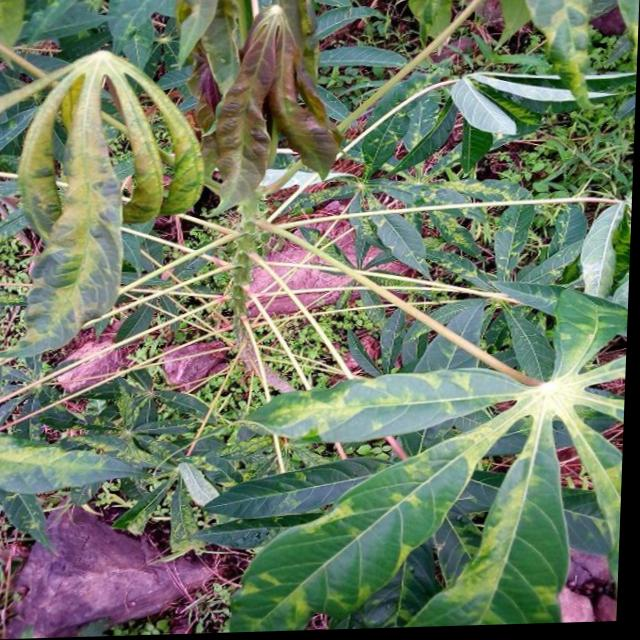Mosaico: (275, 334, 640, 640), (17, 40, 164, 371), (413, 148, 640, 347), (178, 16, 354, 235), (0, 272, 162, 490)
